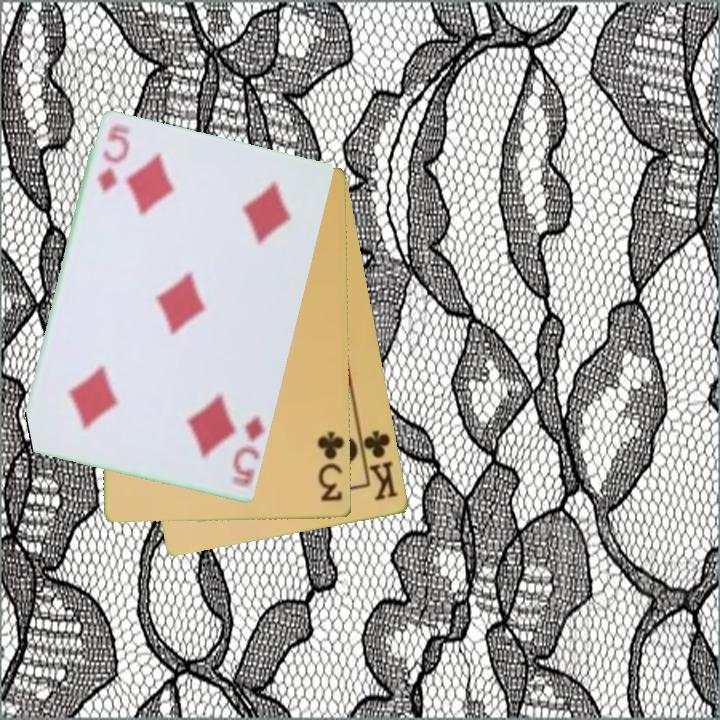3c: (314, 429, 347, 505)
5d: (229, 413, 268, 491), (94, 121, 127, 196)
Kc: (357, 426, 402, 504)
